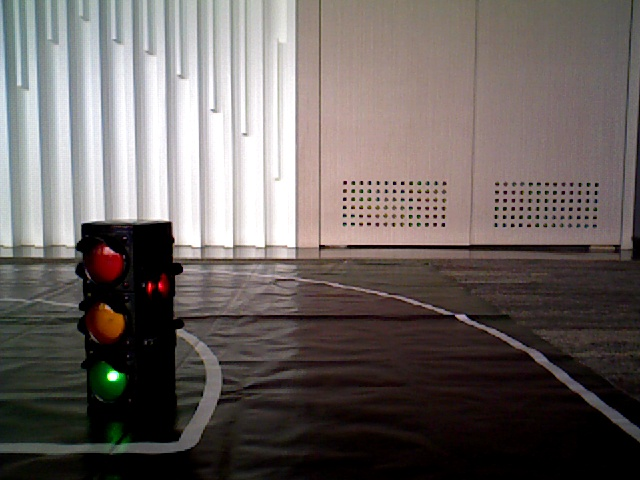green: (80, 228, 141, 397)
